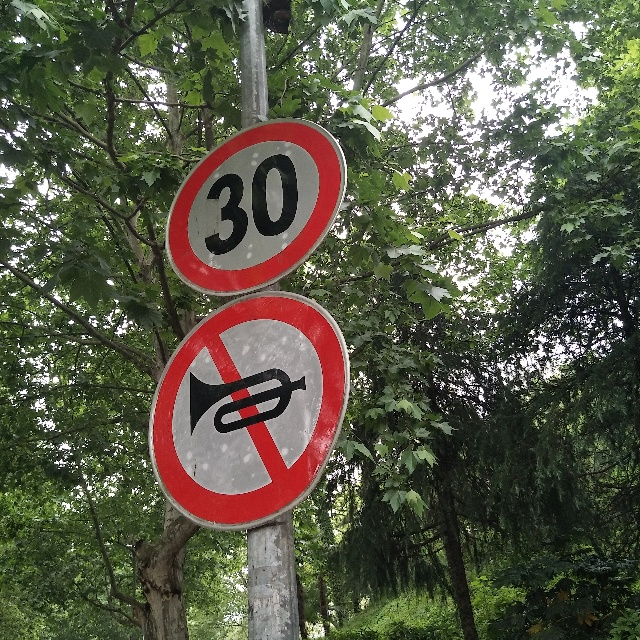nohonk: (157, 335, 319, 482)
